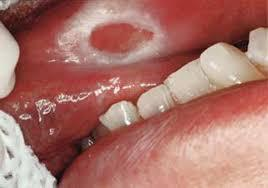Ulcer: (66, 8, 163, 66)
